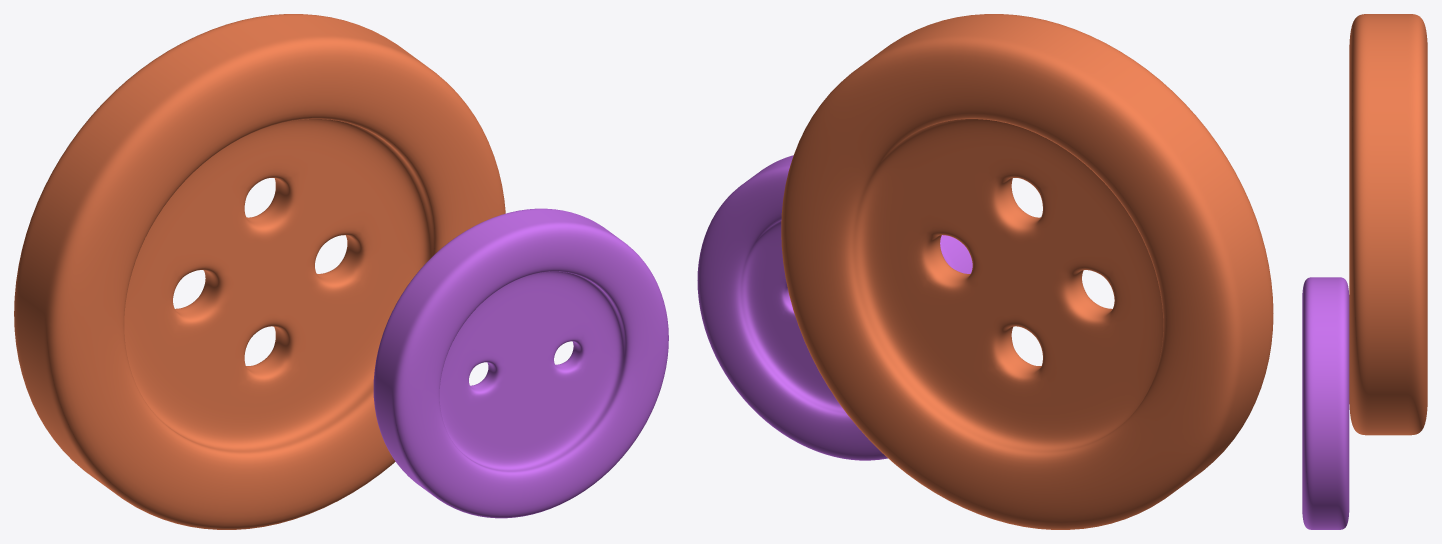
Rendered from 11. Buttons.glb.
The picture shows the model from 3 angles, left to right: view 1: azimuth 30°, elevation 25°; view 2: azimuth 150°, elevation 25°; view 3: azimuth 270°, elevation 25°; orthographic projection. The views are drawn at different scales.
Visible parts, largest first — view 1: Buttons.001, Buttons; view 2: Buttons.001, Buttons; view 3: Buttons.001, Buttons.
Boxes of the visible parts, bbox=[...] form: Buttons.001: bbox=[14, 14, 505, 529]; Buttons: bbox=[373, 208, 668, 518]; Buttons.001: bbox=[781, 14, 1273, 529]; Buttons: bbox=[697, 155, 972, 460]; Buttons.001: bbox=[1349, 14, 1427, 435]; Buttons: bbox=[1302, 277, 1349, 529].
Size of the model in its own units: 0.2039 by 0.1658 by 0.0473.
